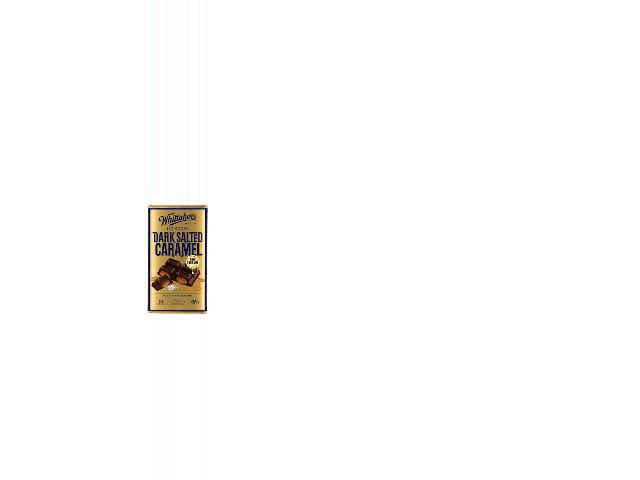chocolate: (145, 206, 212, 316)
